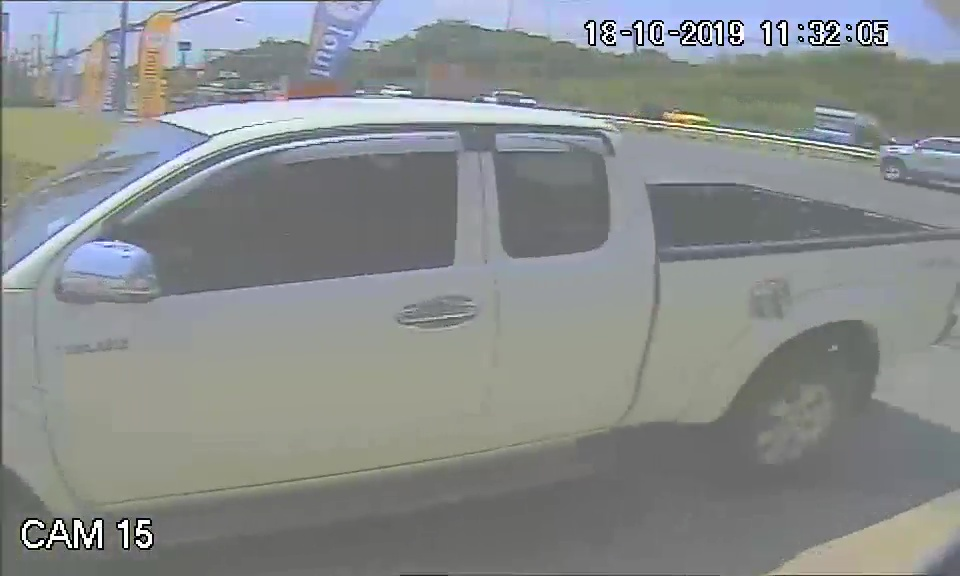pickup: (15, 97, 786, 505)
